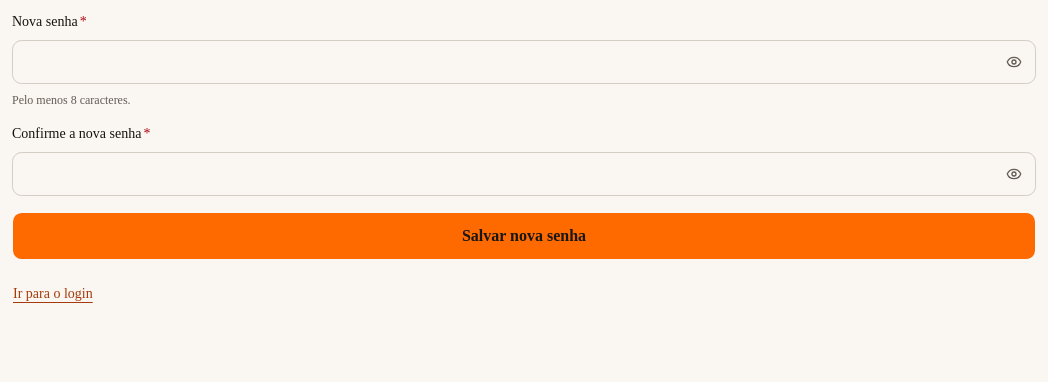
Test: ResetPasswordForm › explains an expired link
Type "senha-forte-123" into the password field labelled "Nova senha*" at (524, 62), box 12,40 -> 1036,84
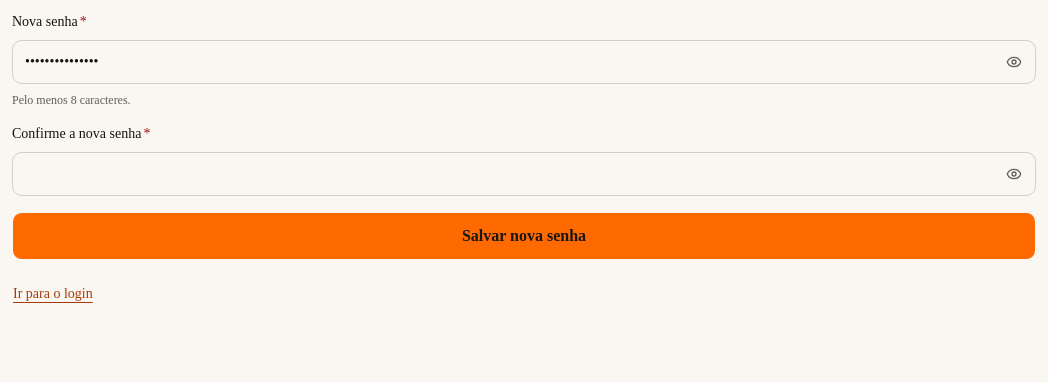
Type "senha-forte-123" into the password field labelled "Confirme a nova senha*" at (524, 174), box 12,152 -> 1036,196
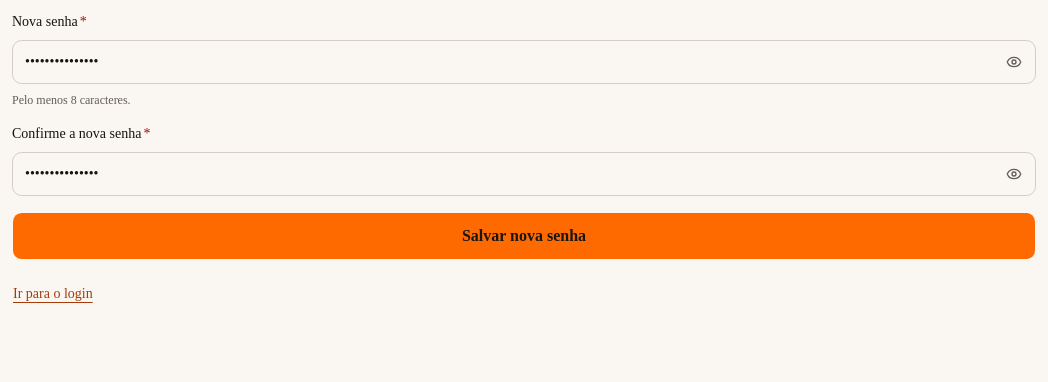
Click the button "Salvar nova senha" at (524, 236), box 12,212 -> 1036,260
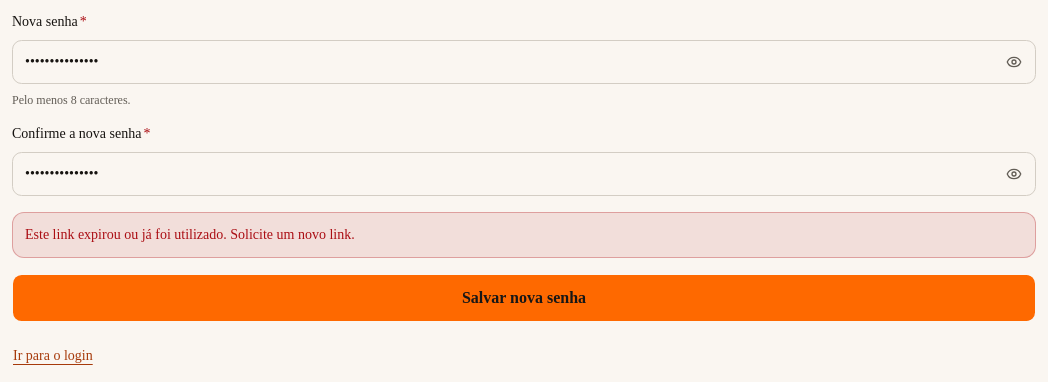
Now the text "Este link expirou ou já foi utilizado. Solicite um novo link." is shown, box 12,212 -> 1036,258
